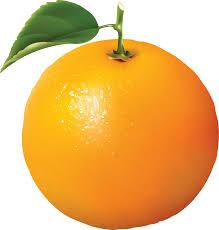non-mango: (20, 37, 218, 229)
